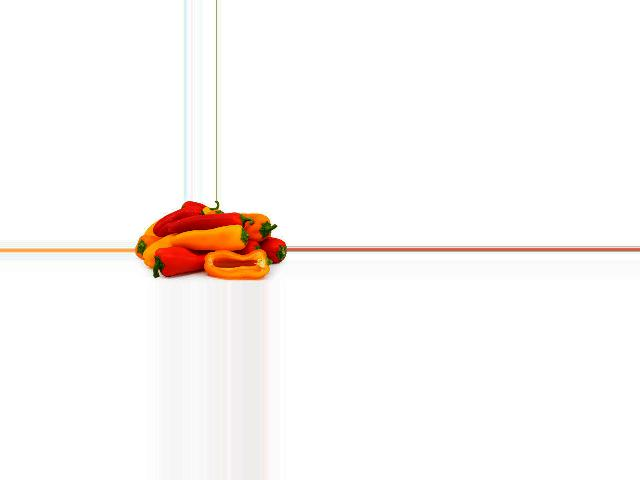bell_pepper: (244, 232, 287, 262)
